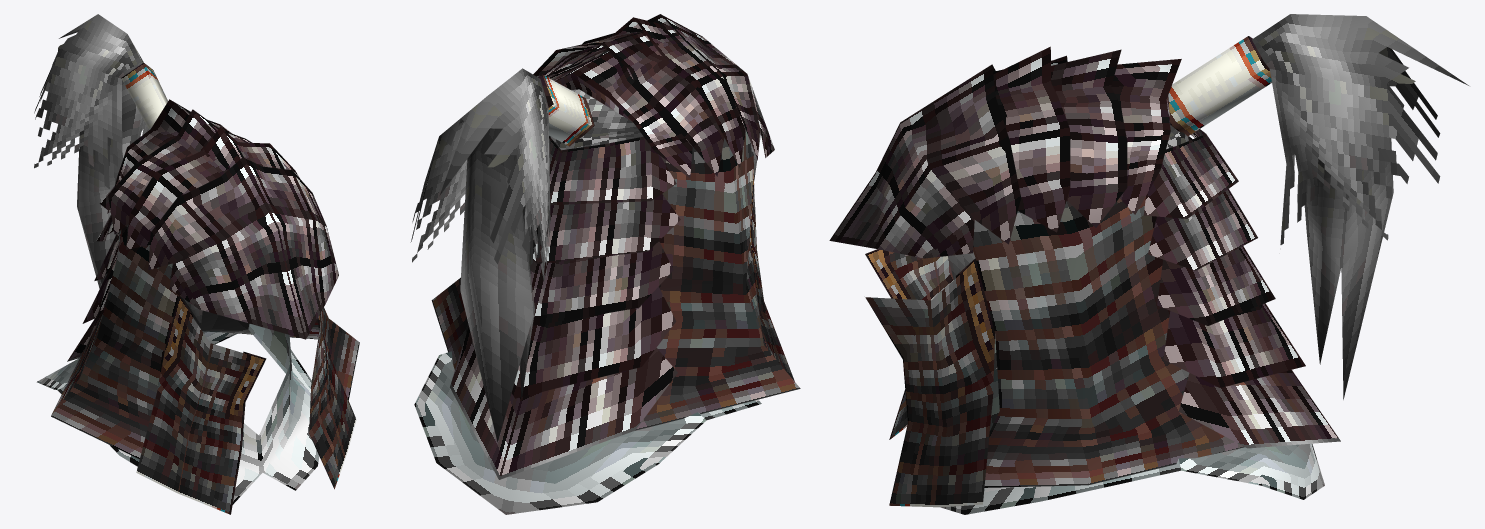
Rendered from m_helmet113.obj.
3 renders of one model, left to right at view 1: azimuth 30°, elevation 25°; view 2: azimuth 150°, elevation 25°; view 3: azimuth 270°, elevation 25°, orthographic. The views are drawn at different scales.
Visible parts, largest first — view 1: mesh02, mesh00, mesh01; view 2: mesh02, mesh00, mesh01; view 3: mesh02, mesh00, mesh01.
Part boxes in pixels (x1,y1,x2,y2): mesh02: (51,62,359,514); mesh00: (34,14,273,336); mesh01: (37,296,319,504); mesh02: (431,14,800,479); mesh00: (410,50,760,441); mesh01: (414,351,761,514); mesh02: (829,36,1340,507); mesh00: (948,14,1468,399); mesh01: (941,334,1324,514).
Size of the model in its own units: 30.01 by 33.91 by 41.7.
Materials: 3 (3 with a texture image).
